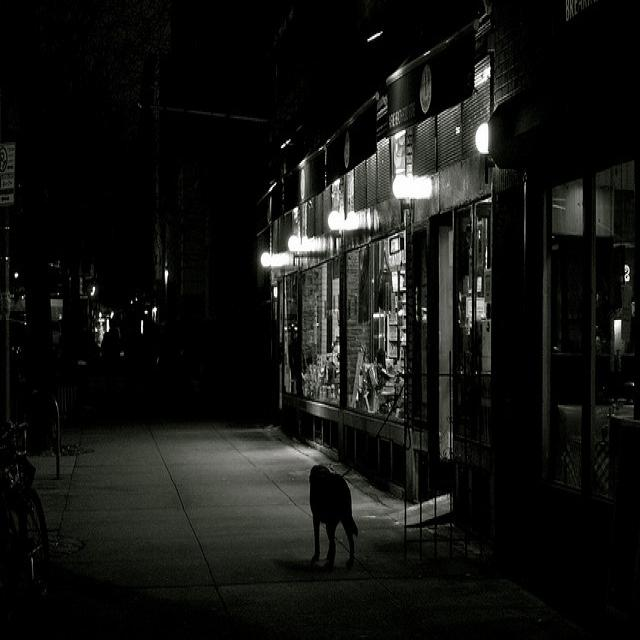Dog: (262, 431, 372, 598)
